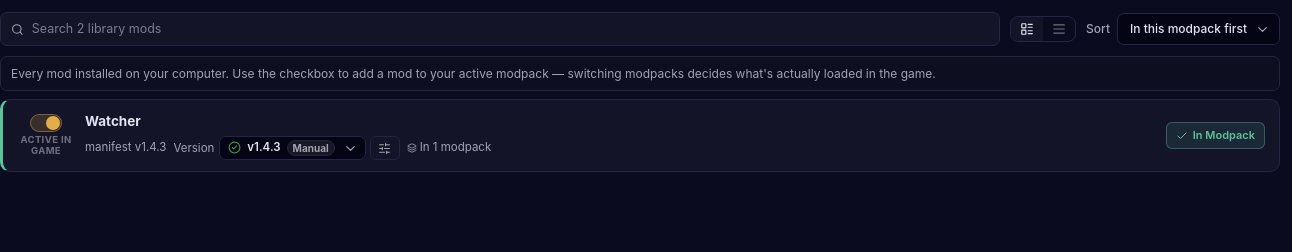
Test case: <LibraryTable> › can hide an archived-only row while preserving it in the installed sibling version selector
Expected: the heading "Watcher" is shown, top-left (85, 111), bottom-right (141, 132)
Expected: the number of elements with test id "library-row" is 1, top-left (0, 99), bottom-right (1280, 173)
Click the dropdown named "Choose version": (292, 149) top-left (219, 137), bottom-right (366, 161)
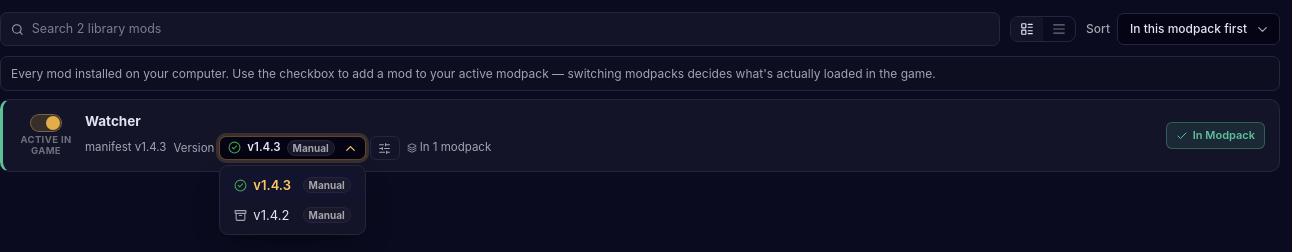
Now the option "v1.4.2 Manual" is shown, box top-left (234, 207), bottom-right (351, 224)
Now the option "v1.4.3 Manual" is shown, box top-left (224, 171), bottom-right (361, 201)
